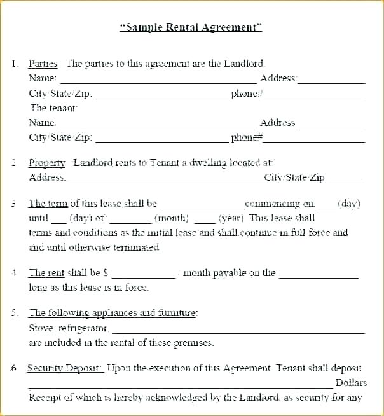textline: (25, 374, 335, 390), (111, 322, 367, 336), (59, 69, 258, 86), (58, 114, 259, 130), (66, 169, 265, 185), (94, 131, 231, 145), (94, 87, 230, 101), (275, 261, 364, 281), (264, 130, 368, 147), (263, 85, 367, 101), (158, 193, 246, 211), (295, 69, 368, 86), (296, 114, 368, 131), (109, 264, 179, 281), (107, 210, 153, 226), (328, 170, 368, 186), (190, 212, 220, 226), (48, 212, 69, 225), (318, 197, 335, 212)
